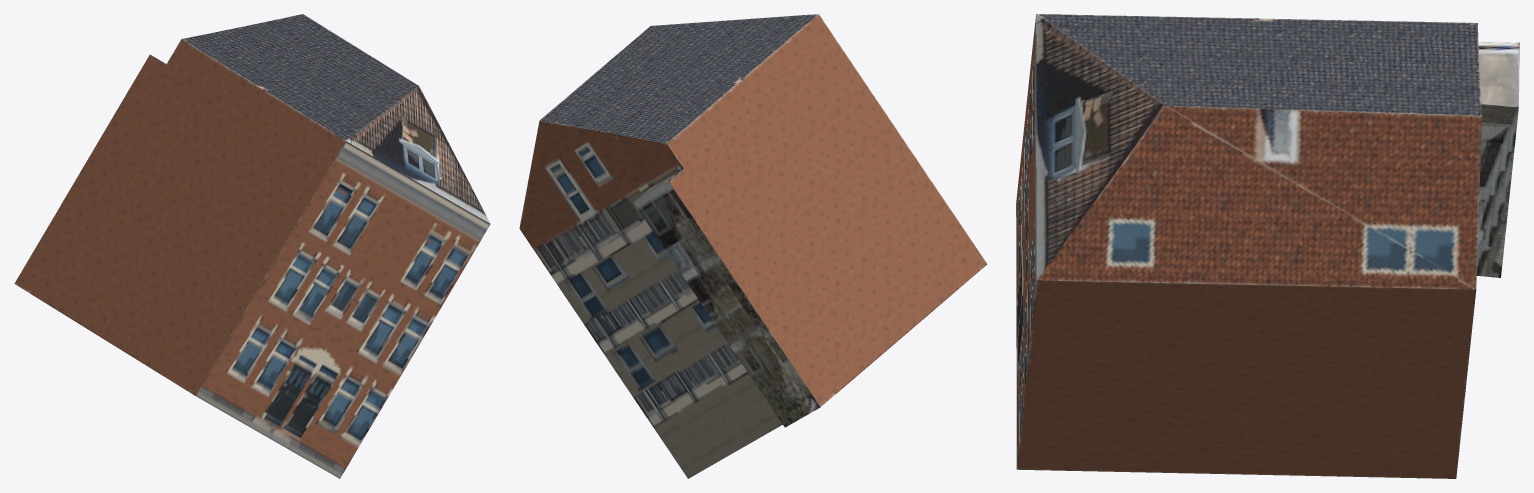
The picture shows the model from 3 angles, left to right: view 1: azimuth 30°, elevation 25°; view 2: azimuth 150°, elevation 25°; view 3: azimuth 270°, elevation 25°; orthographic projection. The views are drawn at different scales.
Parts seen in each view (by area): view 1: BAG_0599100000760393 (×3); view 2: BAG_0599100000760393 (×3); view 3: BAG_0599100000760393 (×4).
Part boxes in pixels (<box>): BAG_0599100000760393 (×3): <box>14,14,490,478</box>; BAG_0599100000760393 (×3): <box>519,14,987,478</box>; BAG_0599100000760393 (×4): <box>1016,14,1519,478</box>.
Bounding box in the file's own units: 13.58 × 14.17 × 13.48.
Materials: 1 (1 with a texture image).
